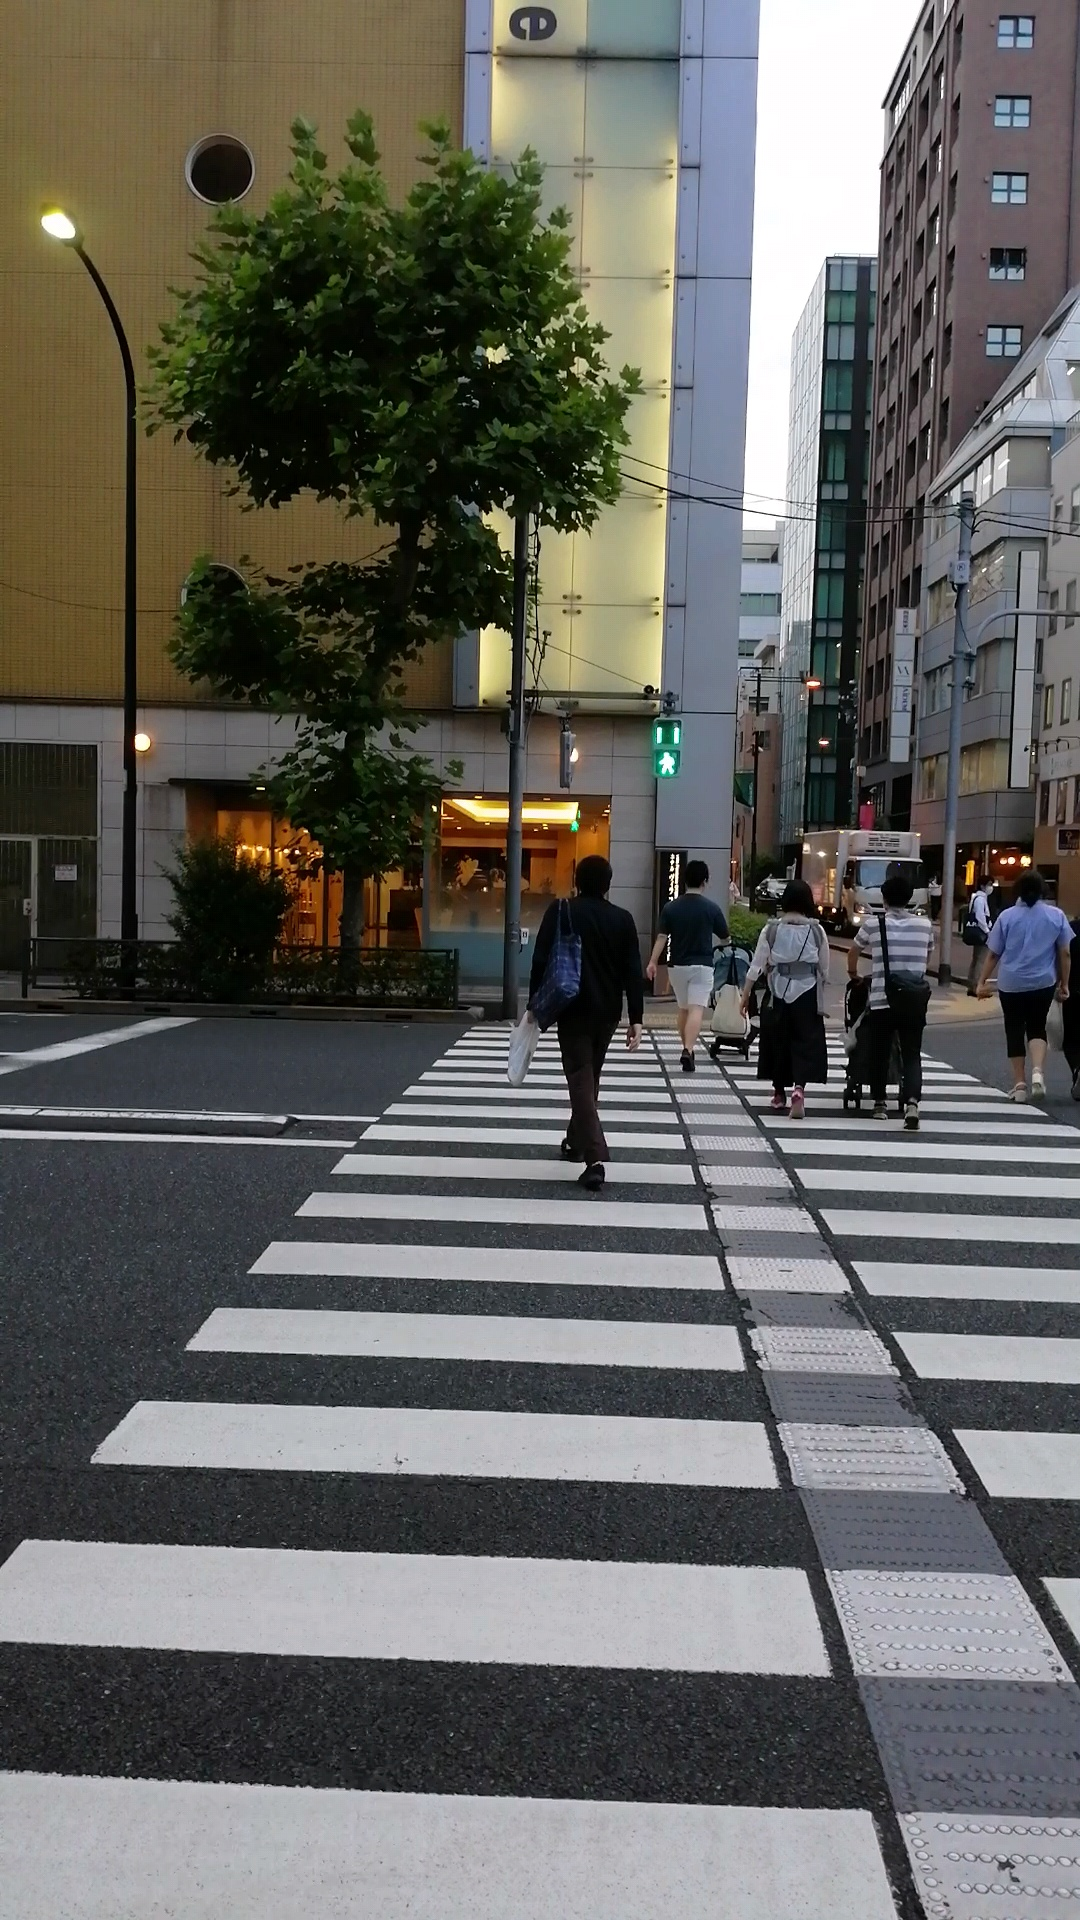green: (651, 717, 684, 781)
